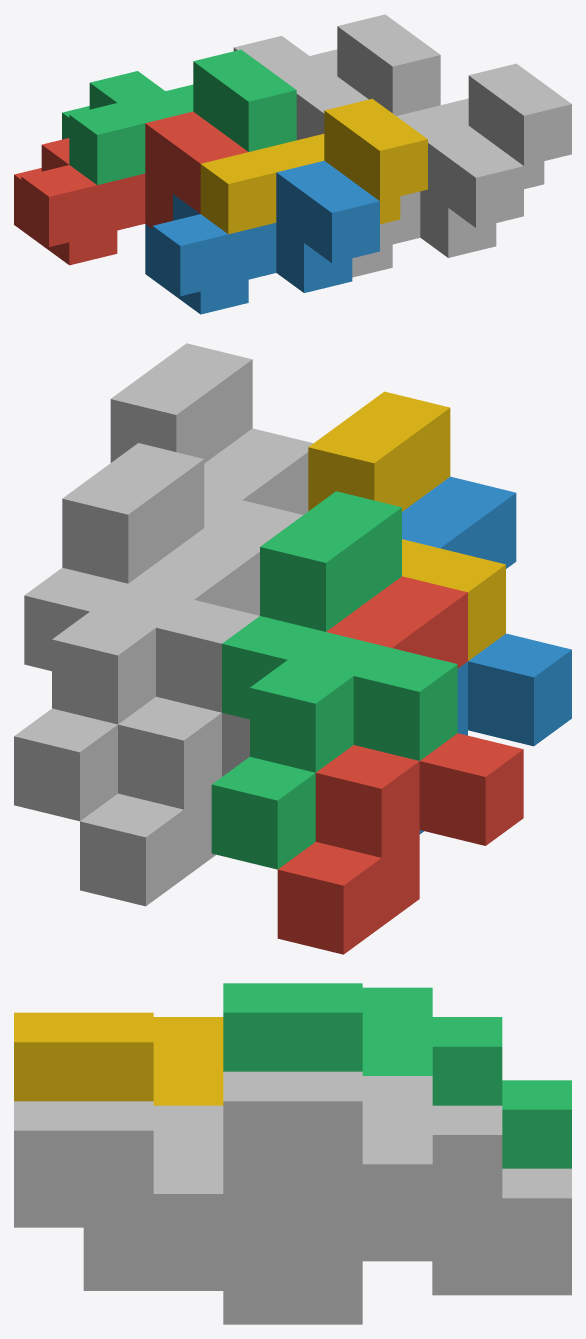
Rendered from tiling.obj.
3 views of the same model, one above another, from view 1: azimuth 30°, elevation 25°; view 2: azimuth 150°, elevation 25°; view 3: azimuth 270°, elevation 25° (orthographic). The views are drawn at different scales.
Parts seen in each view (by area): view 1: copy_1_domain_2, copy_1_domain_1, copy_1_domain_3, copy_1_domain_4, copy_1_domain_6, copy_1_domain_7, copy_1_domain_8, copy_1_domain_5; view 2: copy_1_domain_3, copy_1_domain_7, copy_1_domain_1, copy_1_domain_5, copy_1_domain_4, copy_1_domain_2, copy_1_domain_8, copy_1_domain_6; view 3: copy_1_domain_7, copy_1_domain_8, copy_1_domain_3, copy_1_domain_4, copy_1_domain_6, copy_1_domain_5.
Part boxes in pixels (x1,y1,x2,y2): copy_1_domain_2: [145, 160, 379, 314]; copy_1_domain_1: [14, 111, 247, 265]; copy_1_domain_3: [62, 49, 296, 184]; copy_1_domain_4: [200, 98, 427, 234]; copy_1_domain_6: [352, 125, 523, 277]; copy_1_domain_7: [233, 14, 440, 115]; copy_1_domain_8: [396, 63, 571, 189]; copy_1_domain_5: [293, 76, 368, 140]; copy_1_domain_3: [211, 491, 457, 869]; copy_1_domain_7: [14, 443, 259, 821]; copy_1_domain_1: [277, 576, 523, 954]; copy_1_domain_5: [80, 528, 264, 906]; copy_1_domain_4: [308, 391, 505, 660]; copy_1_domain_2: [402, 476, 571, 834]; copy_1_domain_8: [110, 343, 302, 542]; copy_1_domain_6: [204, 428, 313, 514]; copy_1_domain_7: [223, 1071, 571, 1261]; copy_1_domain_8: [14, 1101, 362, 1290]; copy_1_domain_3: [223, 983, 571, 1168]; copy_1_domain_4: [14, 1012, 223, 1105]; copy_1_domain_6: [14, 1194, 362, 1324]; copy_1_domain_5: [362, 1227, 571, 1295].
Size of the model in its own units: 8 by 4 by 8.
